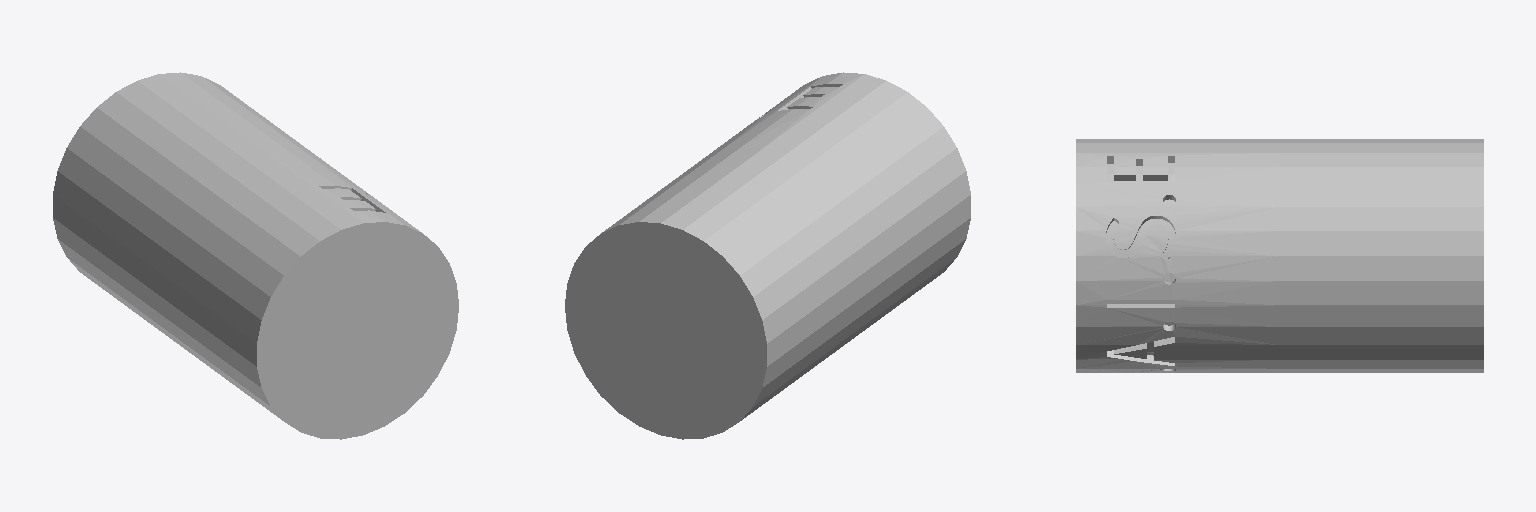
File: cansat_closed.obj
3 views of the same model, side by side, from view 1: azimuth 30°, elevation 25°; view 2: azimuth 150°, elevation 25°; view 3: azimuth 270°, elevation 25° (orthographic).
Parts seen in each view (by area): view 1: mesh1, mesh0; view 2: mesh1, mesh2; view 3: mesh1, mesh61.
Boxes of the visible parts, x1=… form: mesh1: x1=53, y1=72, x2=421, y2=420; mesh0: x1=257, y1=222, x2=458, y2=439; mesh1: x1=602, y1=72, x2=970, y2=420; mesh2: x1=565, y1=222, x2=766, y2=439; mesh1: x1=1076, y1=139, x2=1483, y2=372; mesh61: x1=1106, y1=219, x2=1175, y2=260.
Size of the model in its own units: 0.0658 by 0.0659 by 0.115.